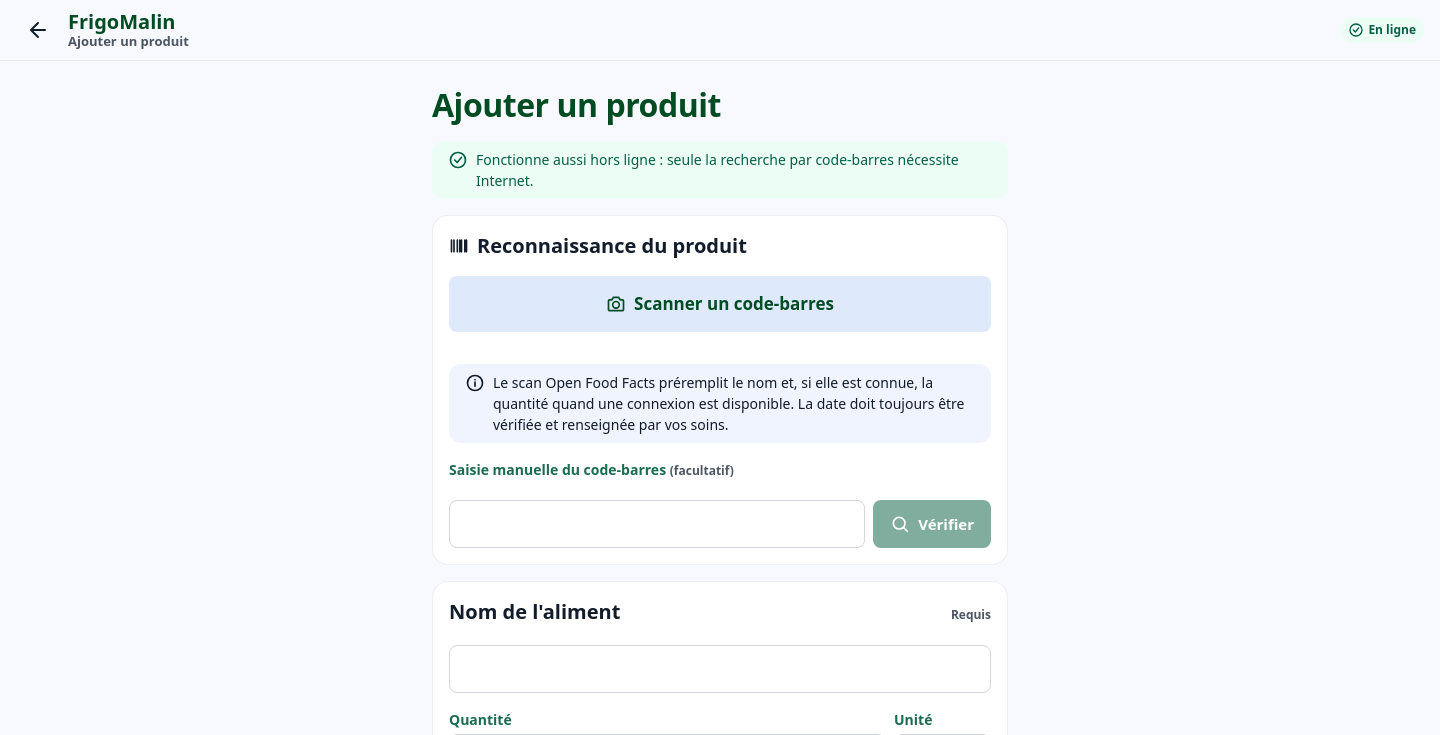
Test: affiche un message adapté au statut not-found et laisse le nom vide
Step 1. Type "3017620422003" into the field labelled "Saisie manuelle du code-barres (facultatif)" → (657, 524), box [449,500,865,548]
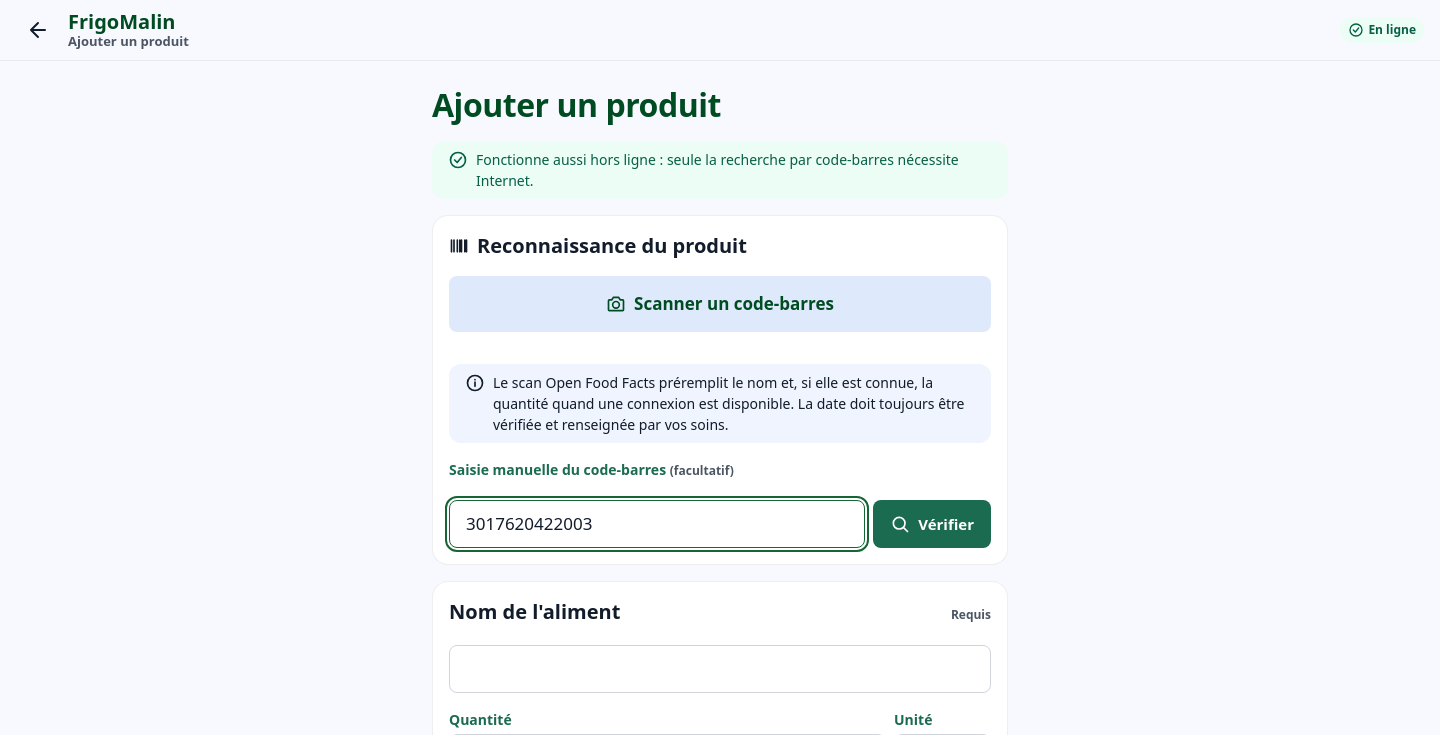
Step 2. Click the button "Vérifier" → (932, 524), box [873,500,991,548]
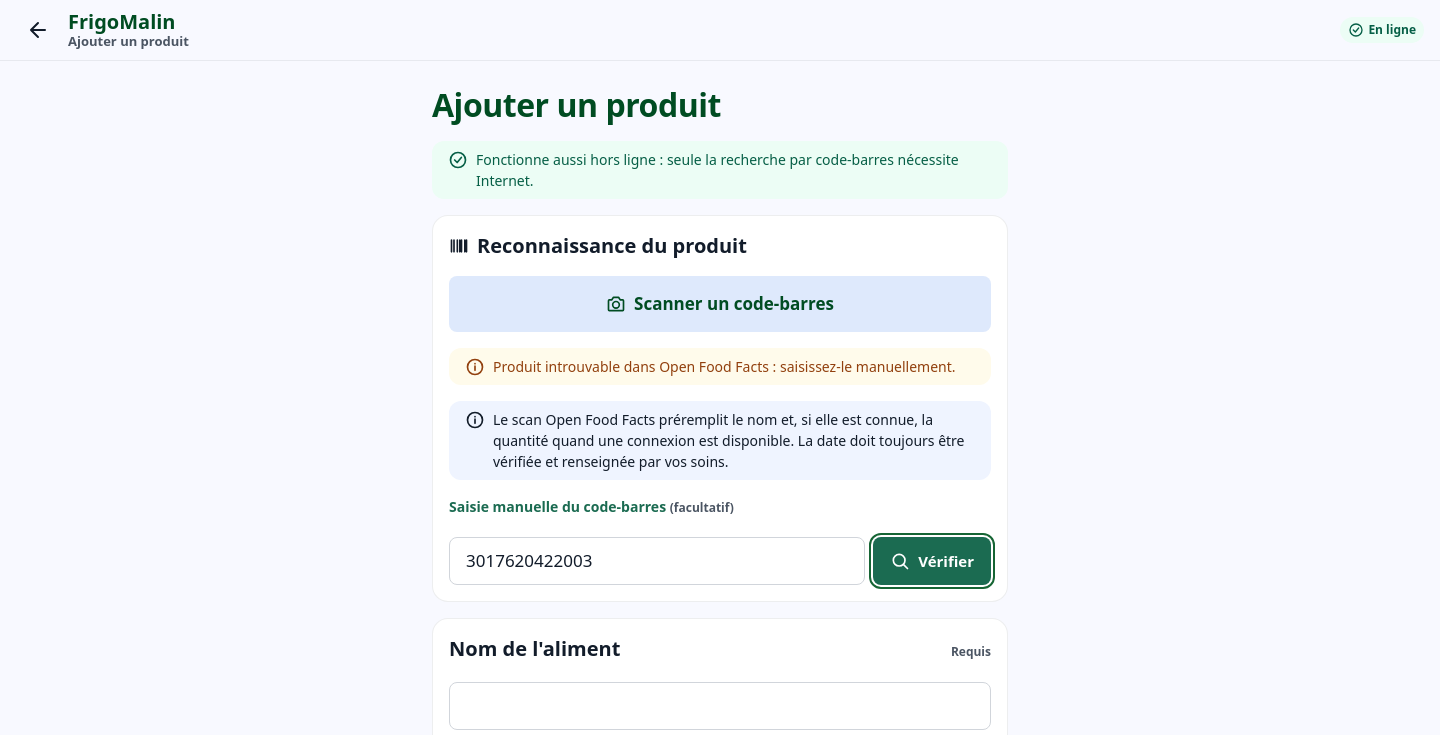
Expected: the field labelled "Nom de l'aliment Requis" is empty, [449,682,991,730]
Expected: the text "Produit introuvable dans Open Food Facts : saisissez-le manuellement." is shown, [493,356,956,377]
